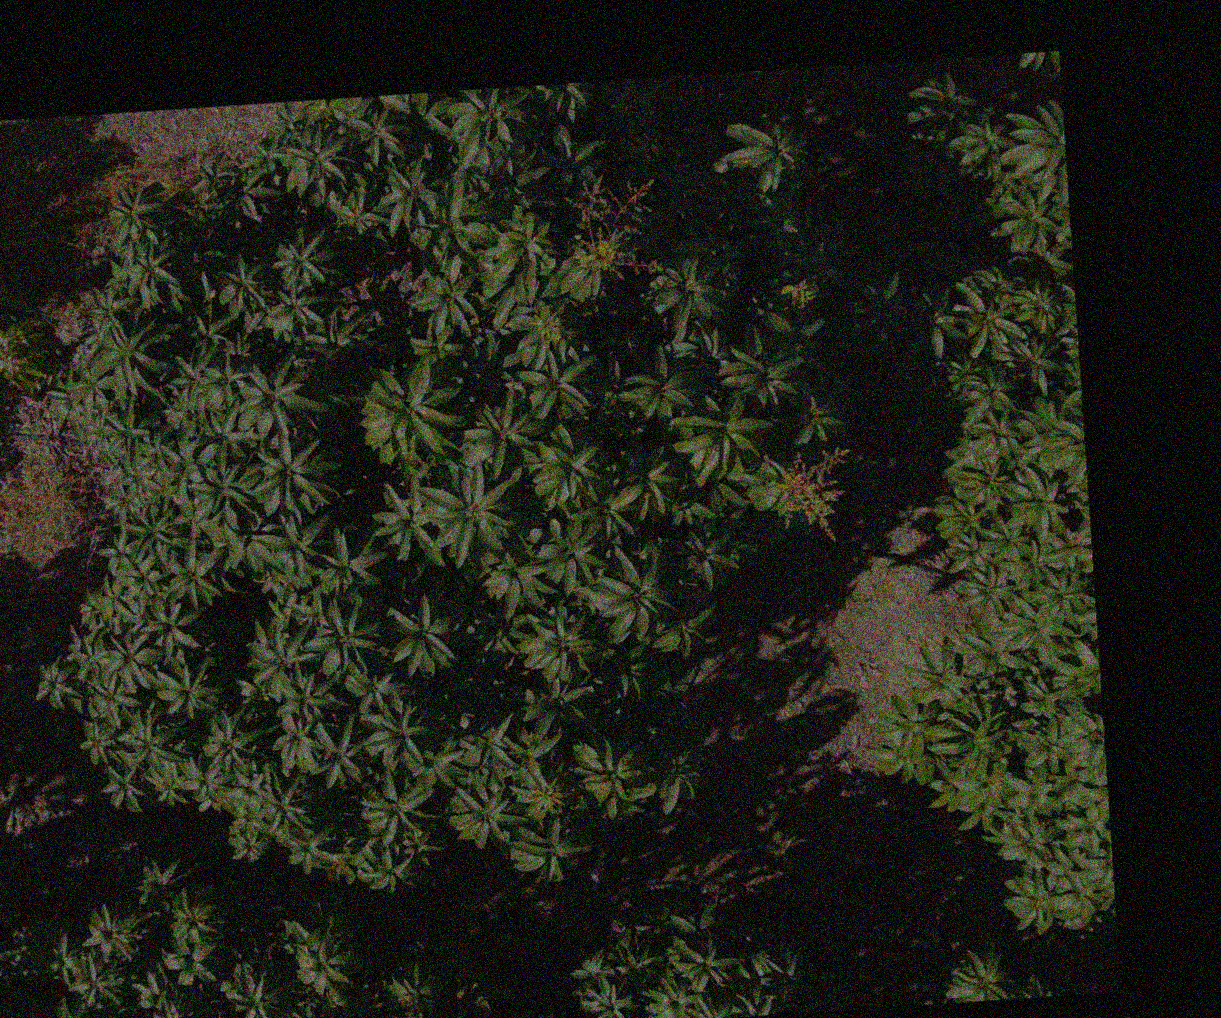flowers: (568, 177, 656, 275), (783, 449, 851, 542)
